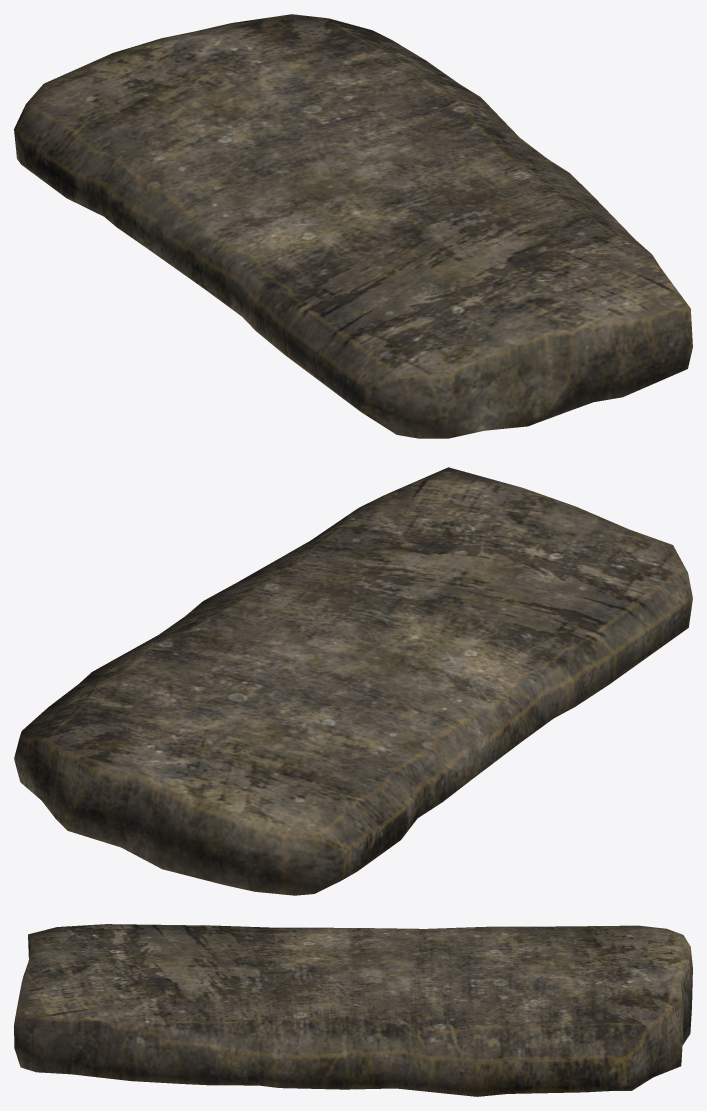
File: FlatRock_01.fbx
3 views of the same model, one above another, from view 1: azimuth 30°, elevation 25°; view 2: azimuth 150°, elevation 25°; view 3: azimuth 270°, elevation 25° (orthographic). The views are drawn at different scales.
Visible parts, largest first — view 1: FlatRock_01; view 2: FlatRock_01; view 3: FlatRock_01.
Part boxes in pixels (bbox=[...]): FlatRock_01: bbox=[14, 14, 692, 438]; FlatRock_01: bbox=[14, 467, 692, 895]; FlatRock_01: bbox=[14, 924, 692, 1096].
Size of the model in its own units: 0.4078 by 0.0957 by 0.8.
Materials: 1 (1 with a texture image).
